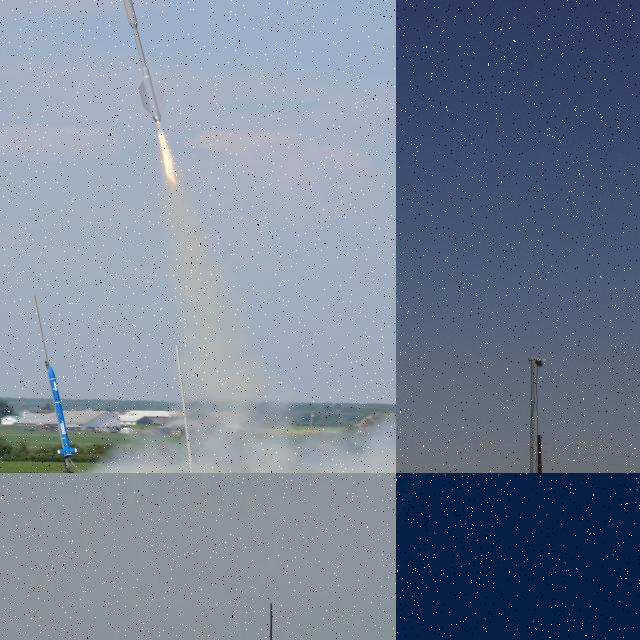Rocket: (122, 0, 167, 123), (48, 365, 77, 458)
